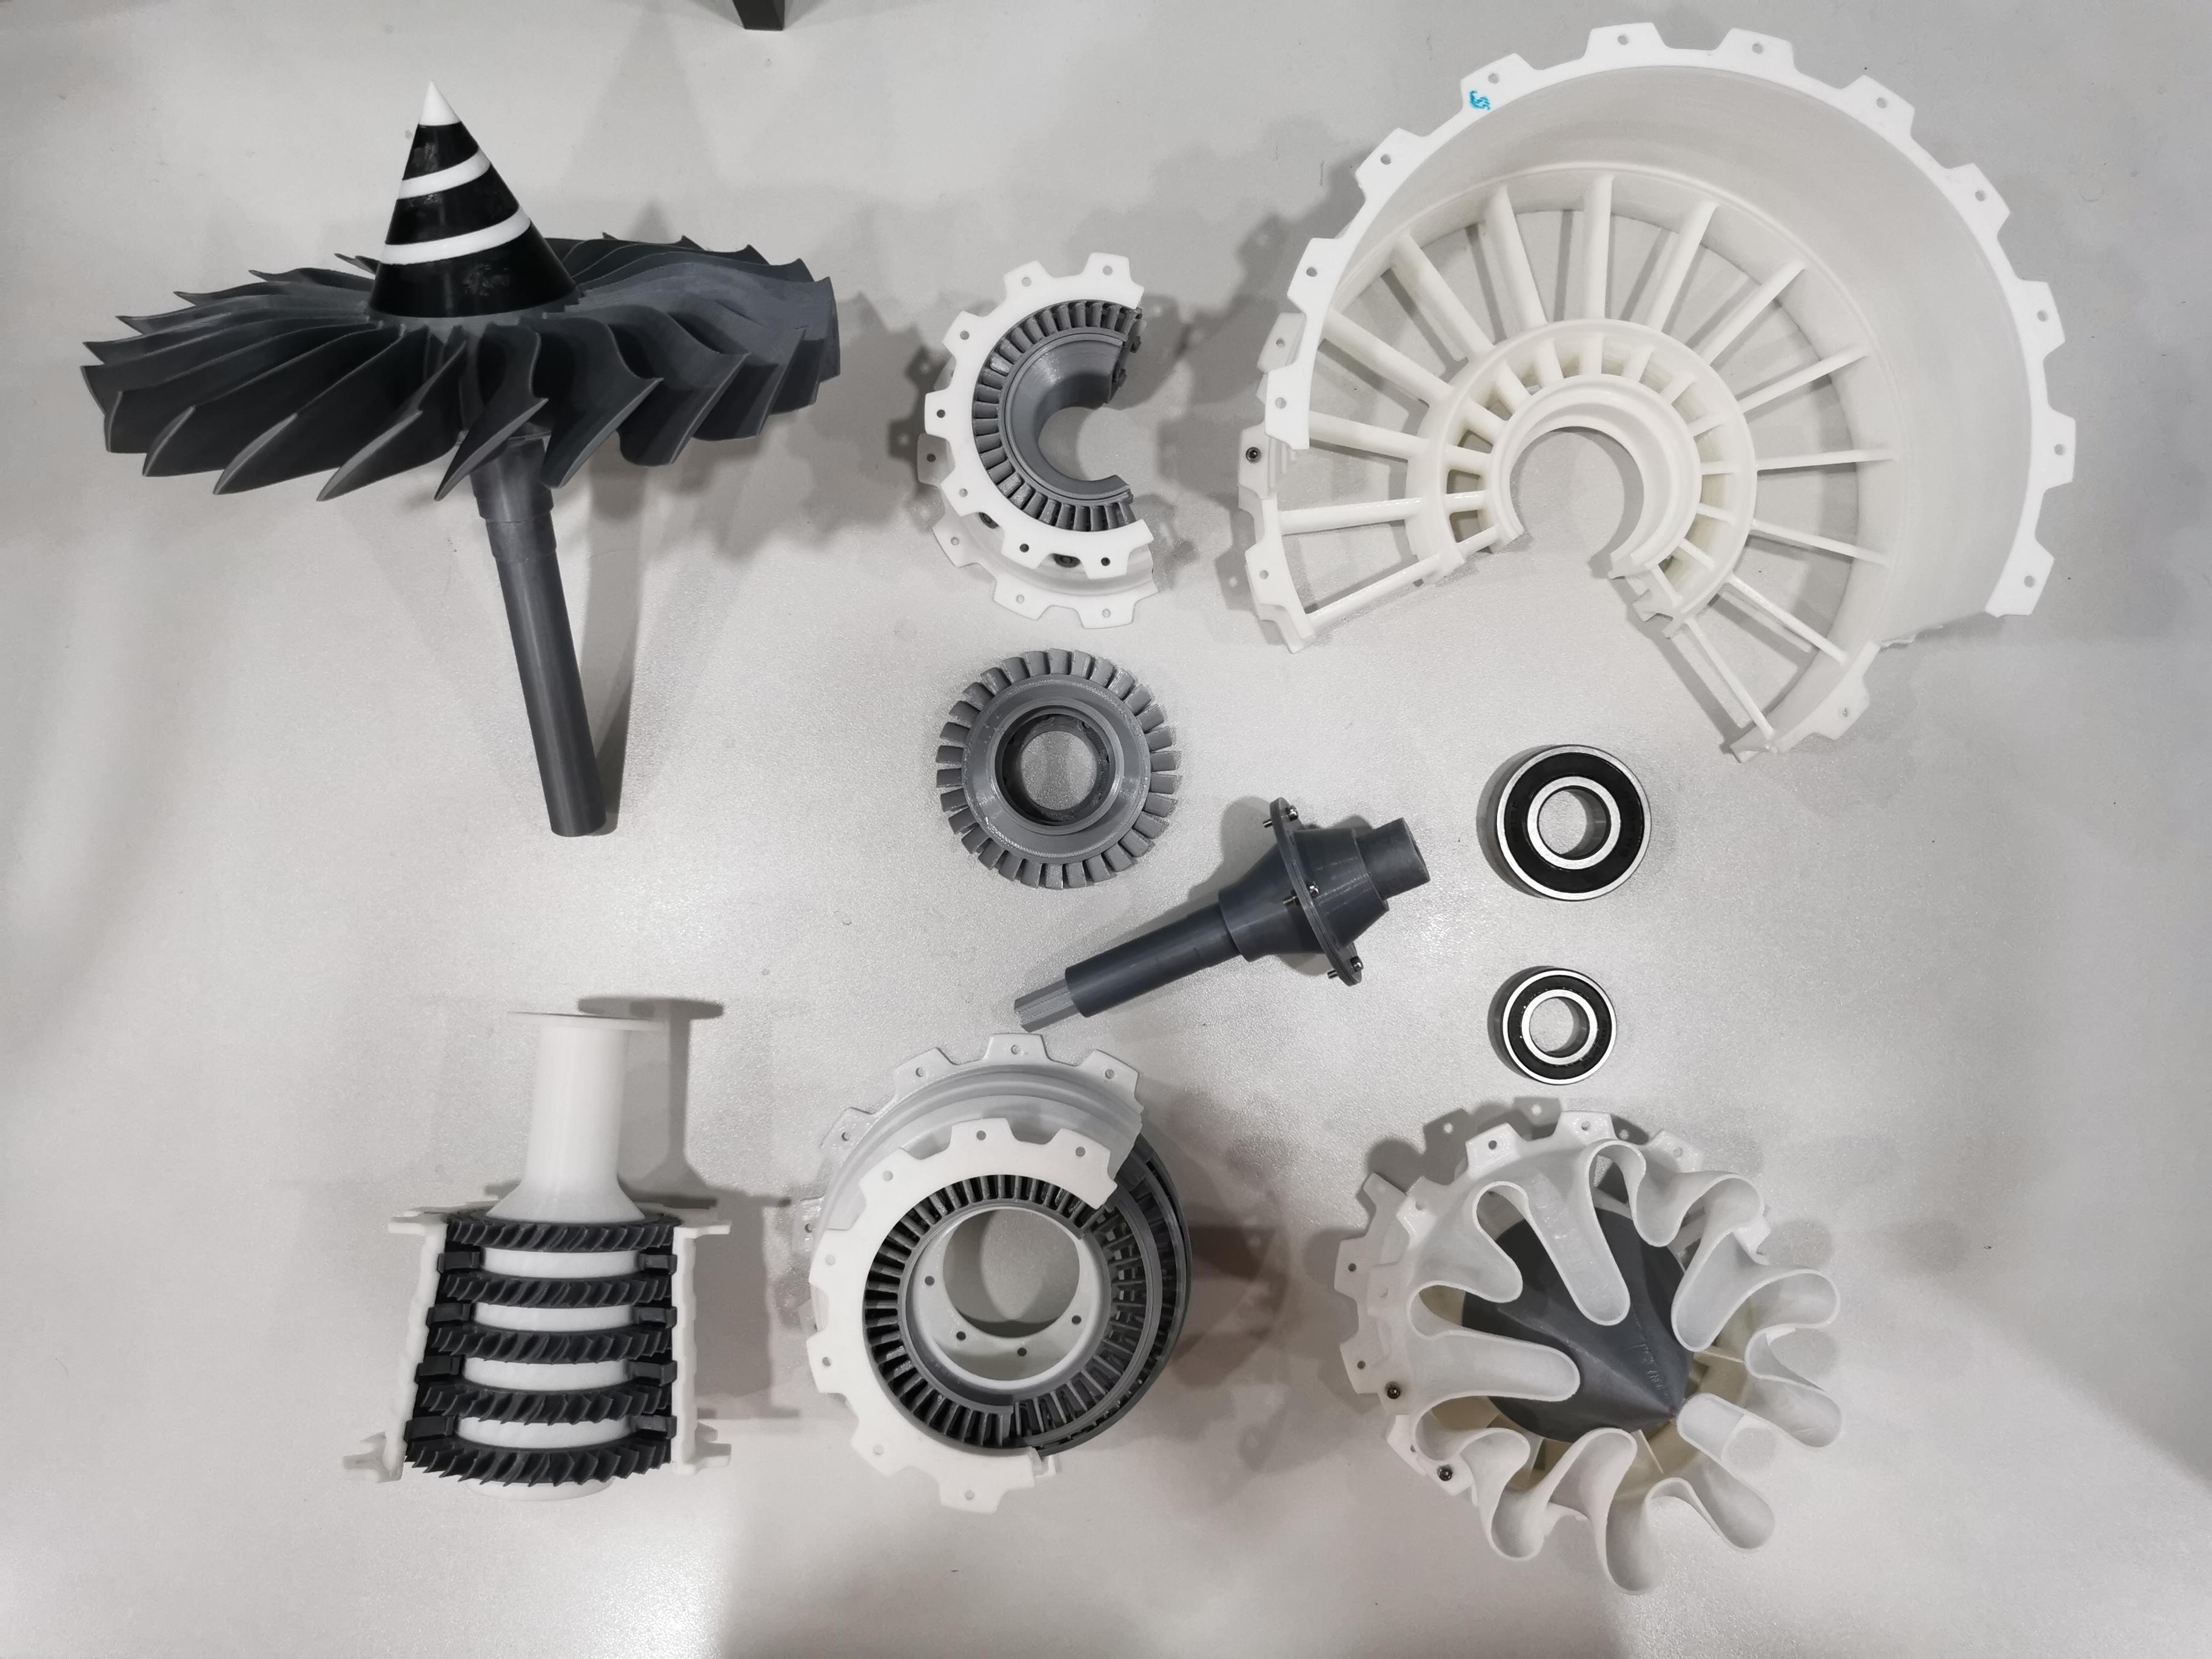Bearing-6003: (1477, 951, 1630, 1096)
Bearing-6204: (1474, 730, 1662, 913)
Combustion Section: (900, 244, 1200, 641)
Fan Casing and Support: (1226, 16, 2083, 763)
Fan and Low Pressure Shaft: (70, 73, 857, 847)
HPT Section: (913, 643, 1191, 896)
High Pressure Spool: (320, 976, 747, 1527)
LPT Section: (779, 1025, 1205, 1528)
Low Pressure Spool: (998, 784, 1442, 1061)
Nozzle Section: (1329, 1105, 1876, 1600)
